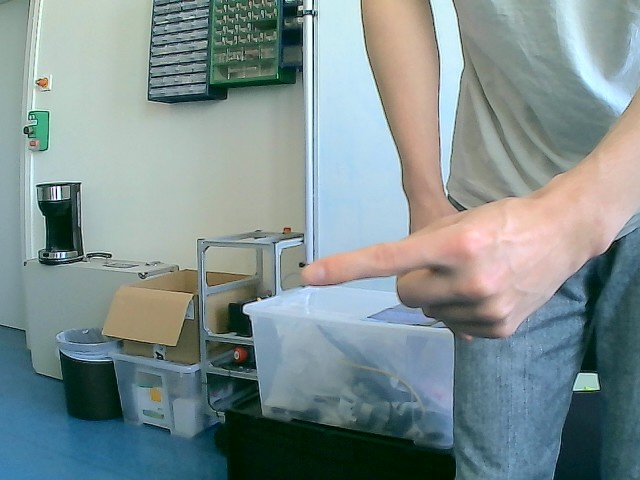right: (300, 192, 588, 342)
